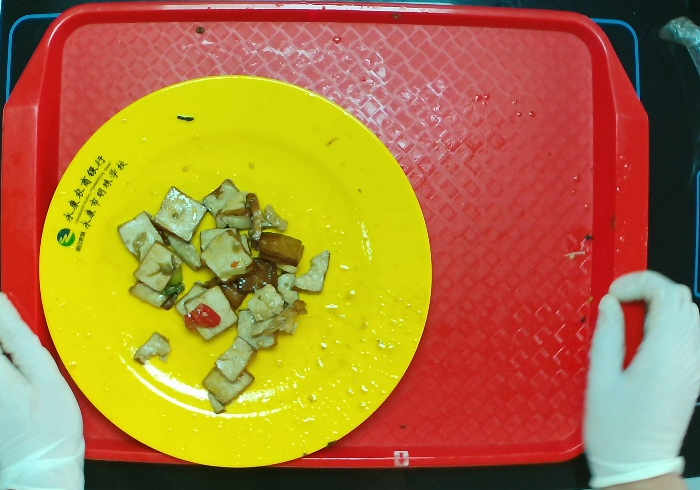YKMZ-Huang_Se_Mian_Pan: (39, 76, 431, 471)
